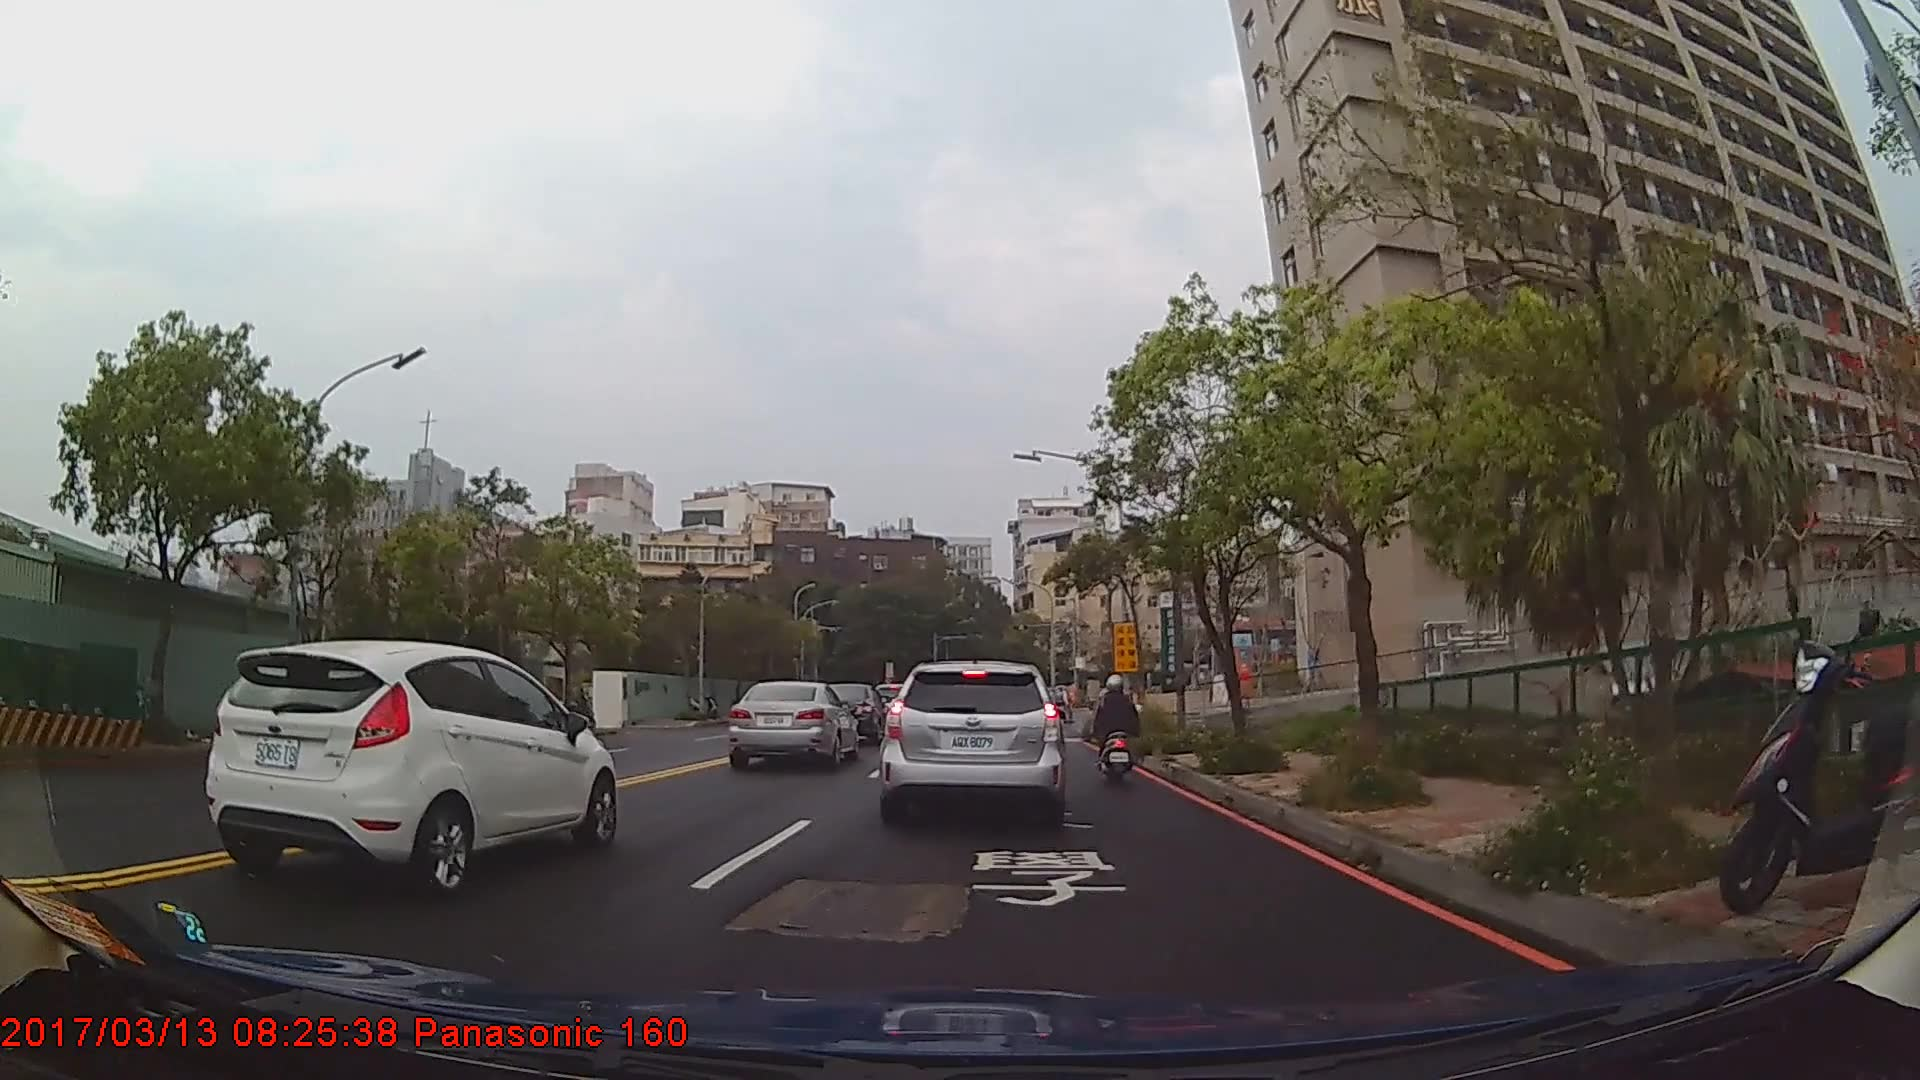rider: (1094, 673, 1142, 788)
vehicle: (204, 638, 617, 902), (881, 660, 1065, 823), (728, 679, 858, 770), (818, 681, 887, 744)
